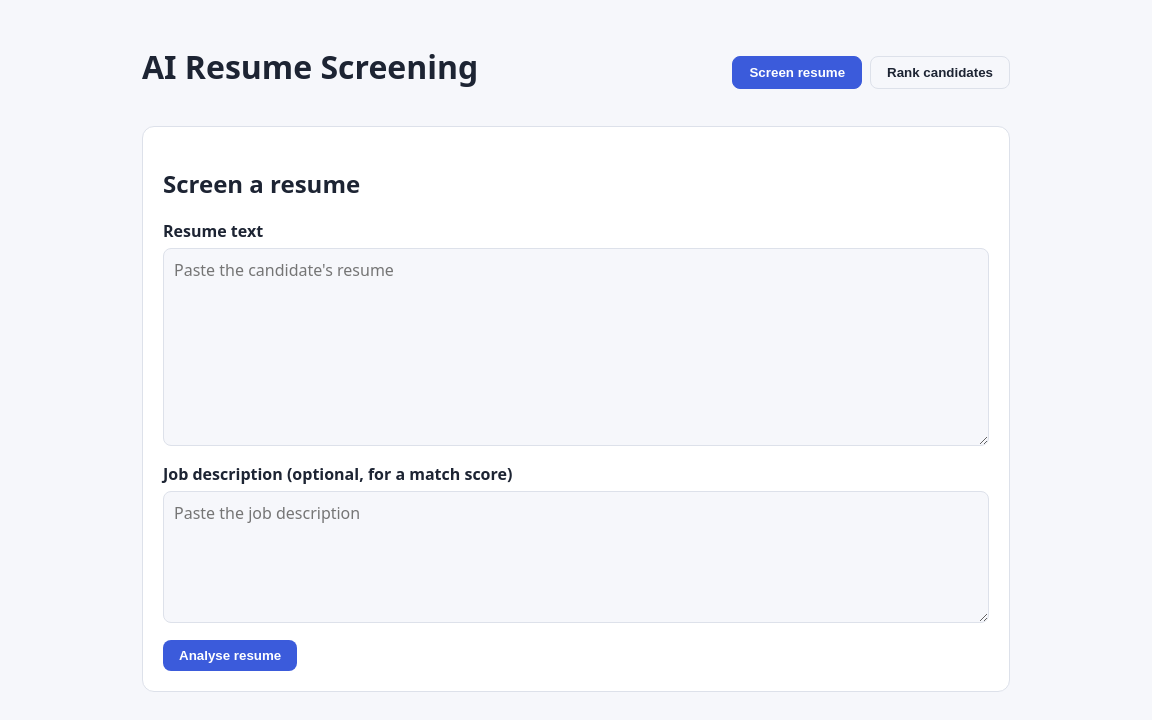
App › switches between the screening and ranking views
This screenshot has width=1152, height=720.
Expected: the heading "Screen a resume" is shown, [163,167,360,200]
What coordinates should you click on to do the following:
click the tab "Rank candidates"
I would click on:
 (940, 73)
Its box is [870,56,1010,89].
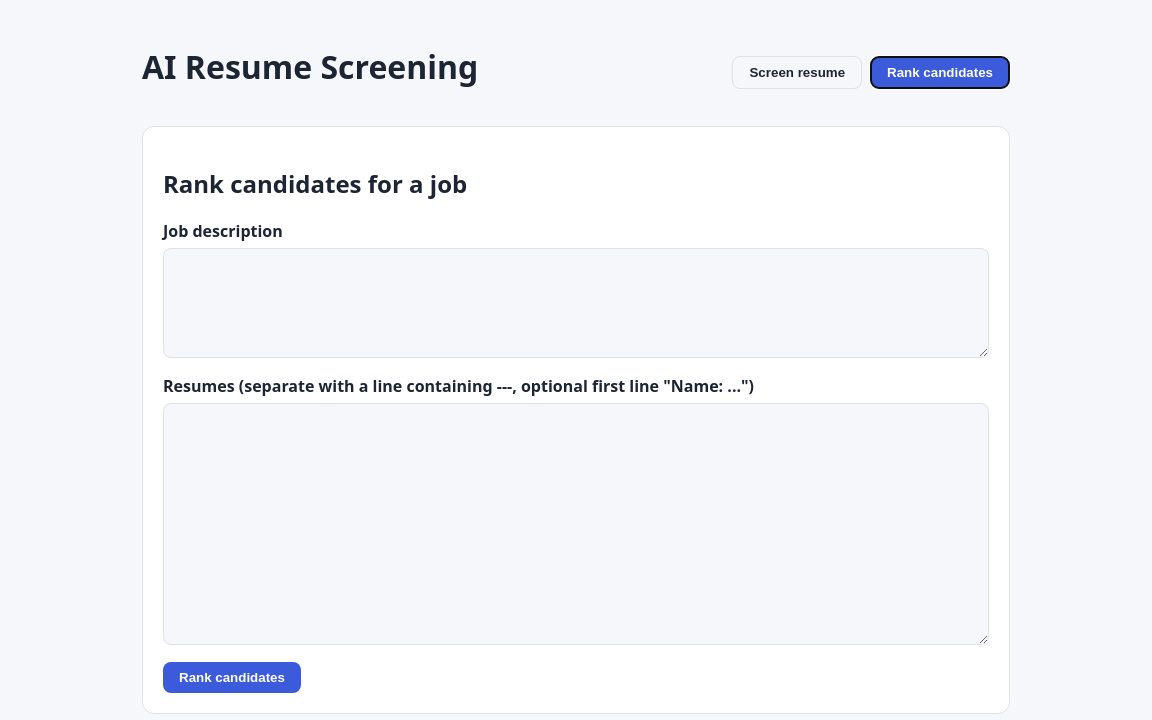
Now the heading "Rank candidates for a job" is shown, box [163,167,467,200]
